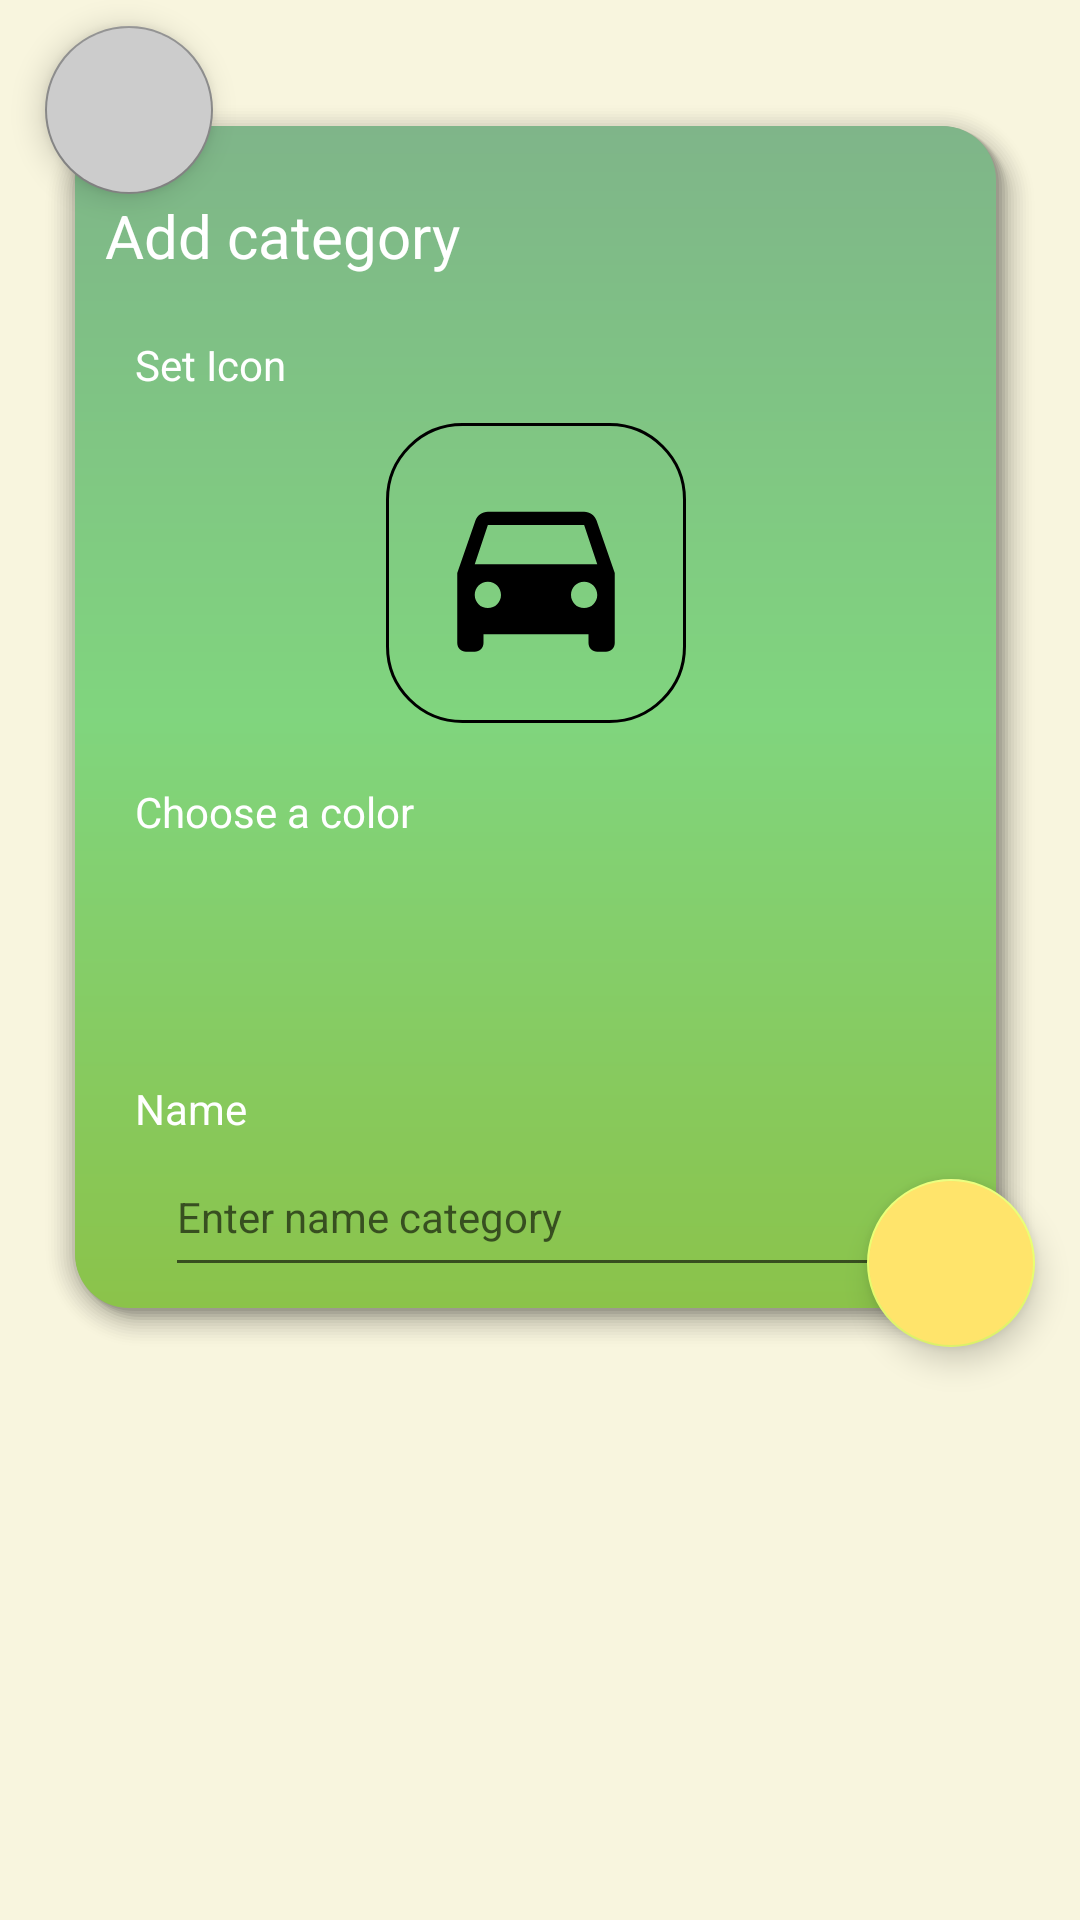

Locate icon controls on the screen. Image size 1080×1920, boxes as (x1, y1, x2, y2).
car: (386, 423, 686, 723)
